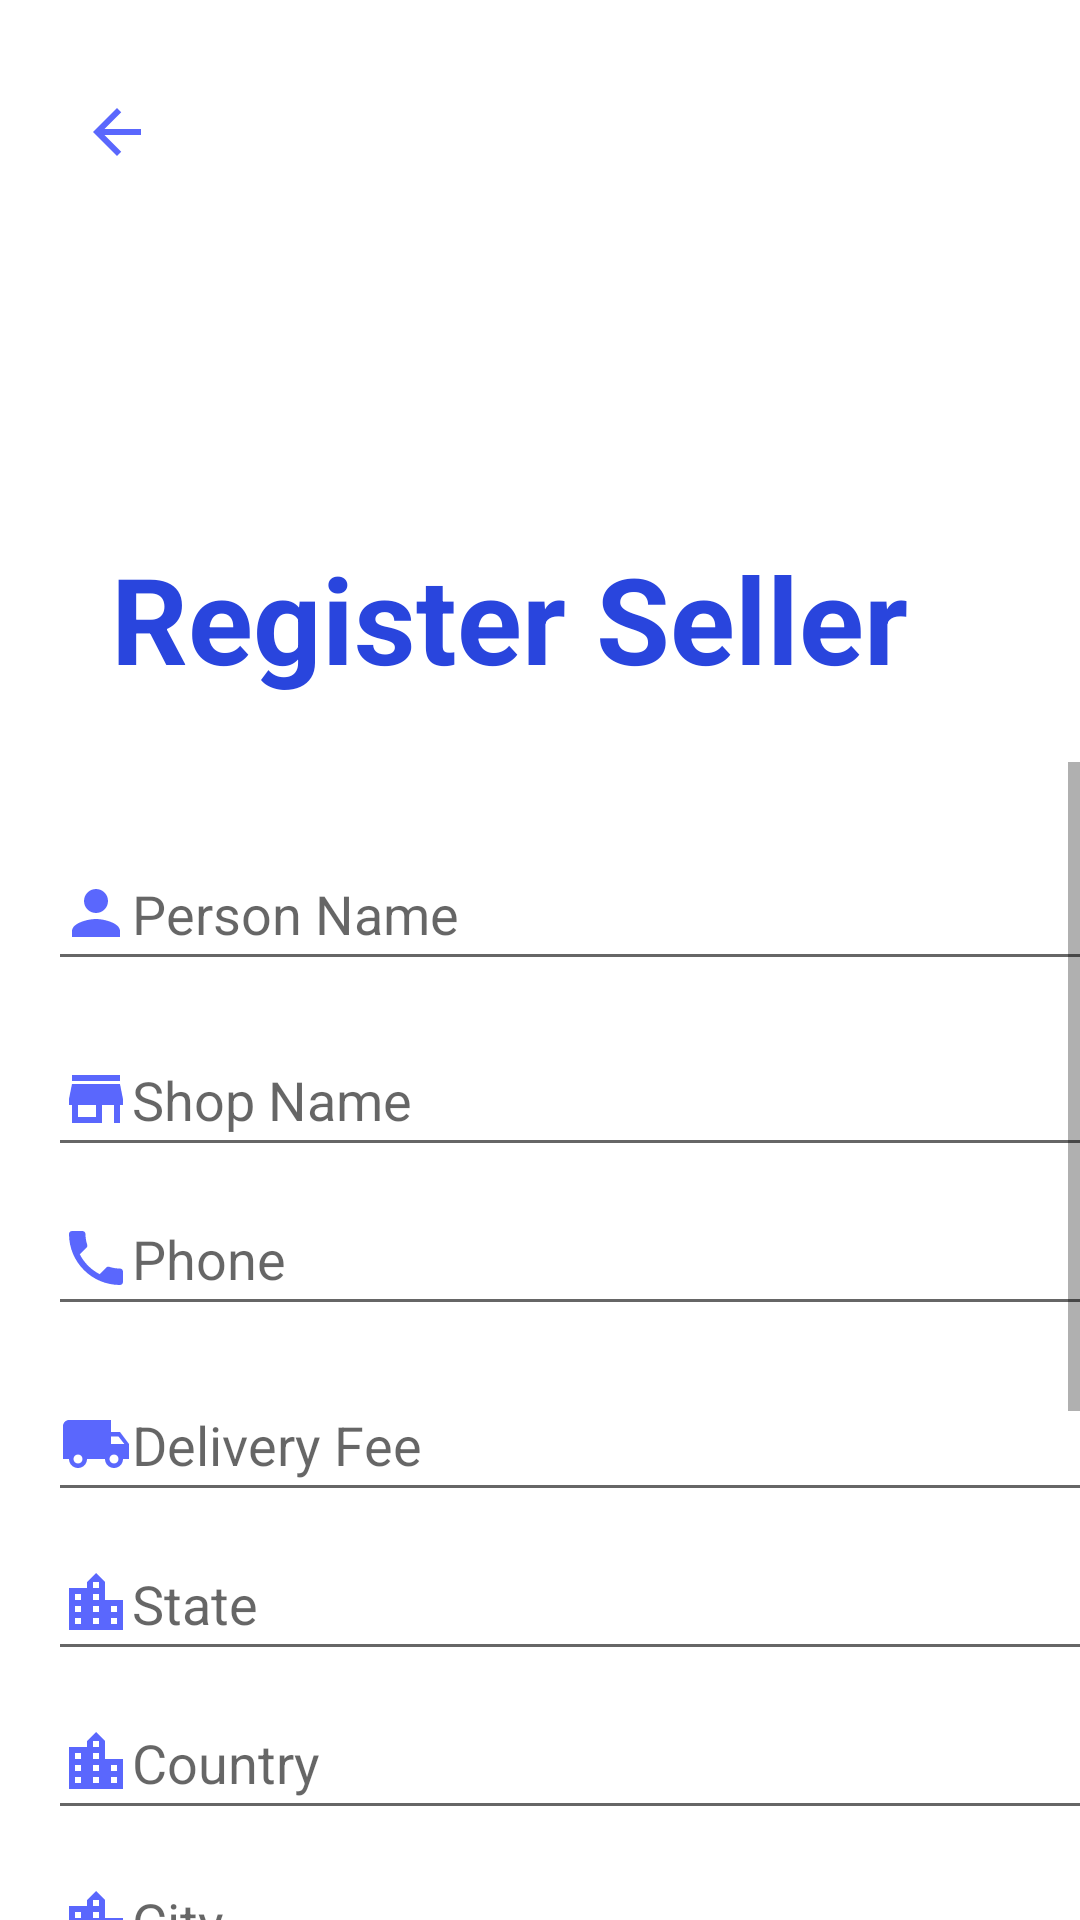

Screen size 1080*1920. Icon name, then its box in pixels as (x1, y1, x2, y2):
arrow back: (93, 108, 141, 156)
